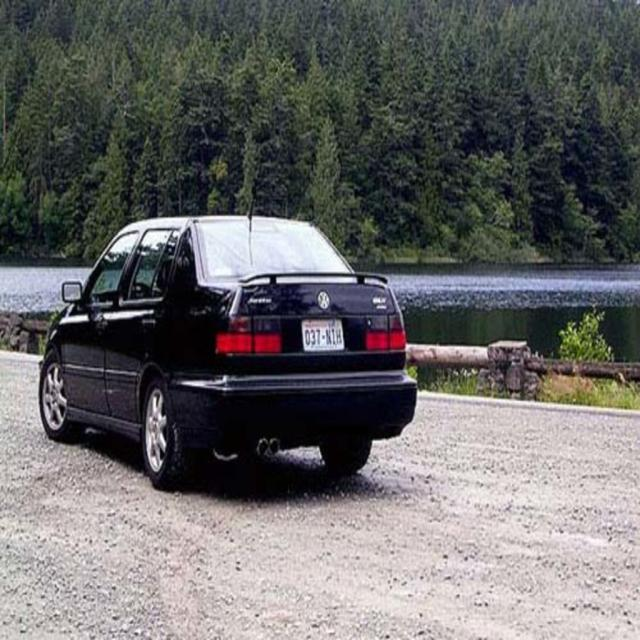car: (37, 180, 415, 492)
